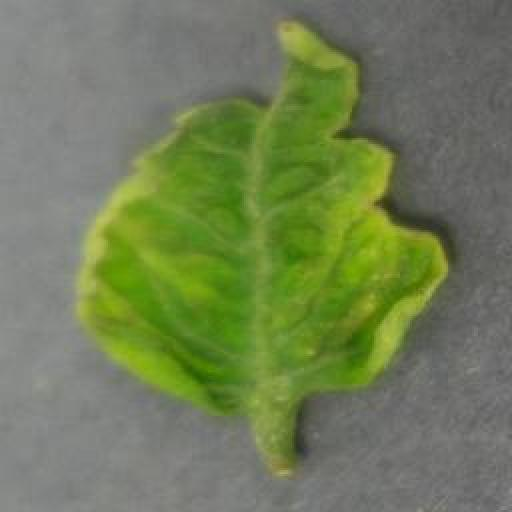Yellow Leaf Curl Virus: (76, 22, 452, 418)
